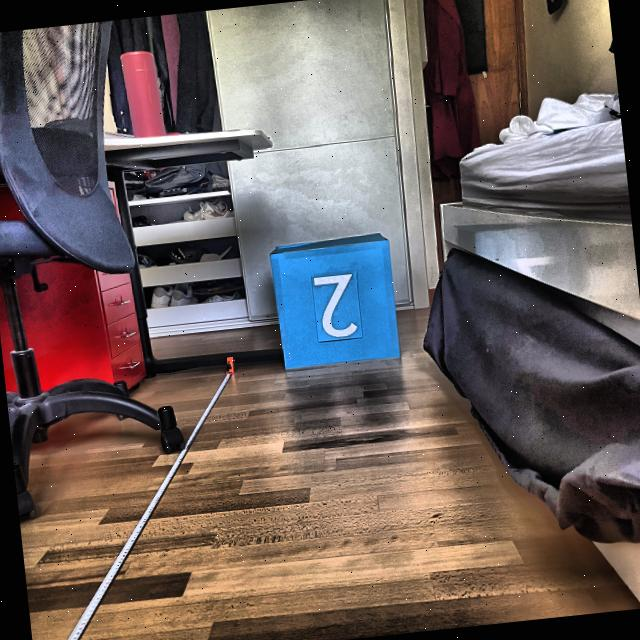blue box: (268, 230, 404, 371)
two: (309, 269, 363, 341)
